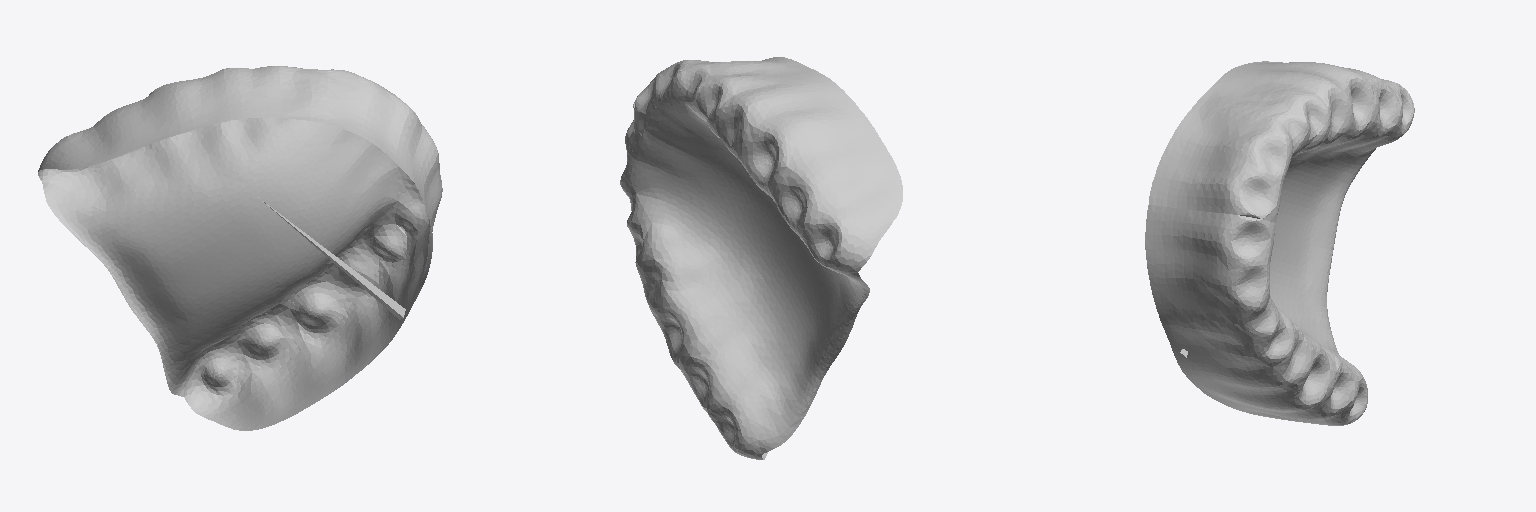
The model's file is gumstop.obj.
3 renders of one model, left to right at view 1: azimuth 30°, elevation 25°; view 2: azimuth 150°, elevation 25°; view 3: azimuth 270°, elevation 25°, orthographic.
Parts seen in each view (by area): view 1: Group61790.002; view 2: Group61790.002; view 3: Group61790.002.
Part boxes in pixels (bbox=[...]): Group61790.002: bbox=[38, 66, 442, 430]; Group61790.002: bbox=[620, 57, 902, 459]; Group61790.002: bbox=[1145, 61, 1414, 425].
Size of the model in its own units: 0.4898 by 0.5093 by 0.3548.